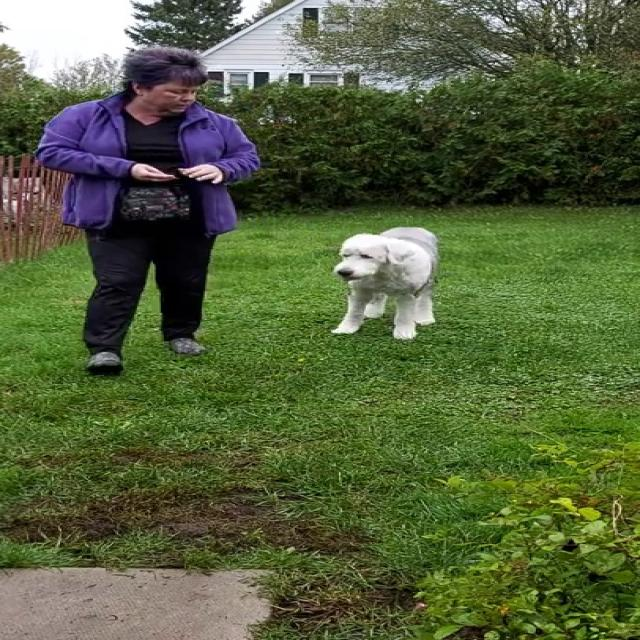Unleashed_Dog: (154, 226, 444, 340)
